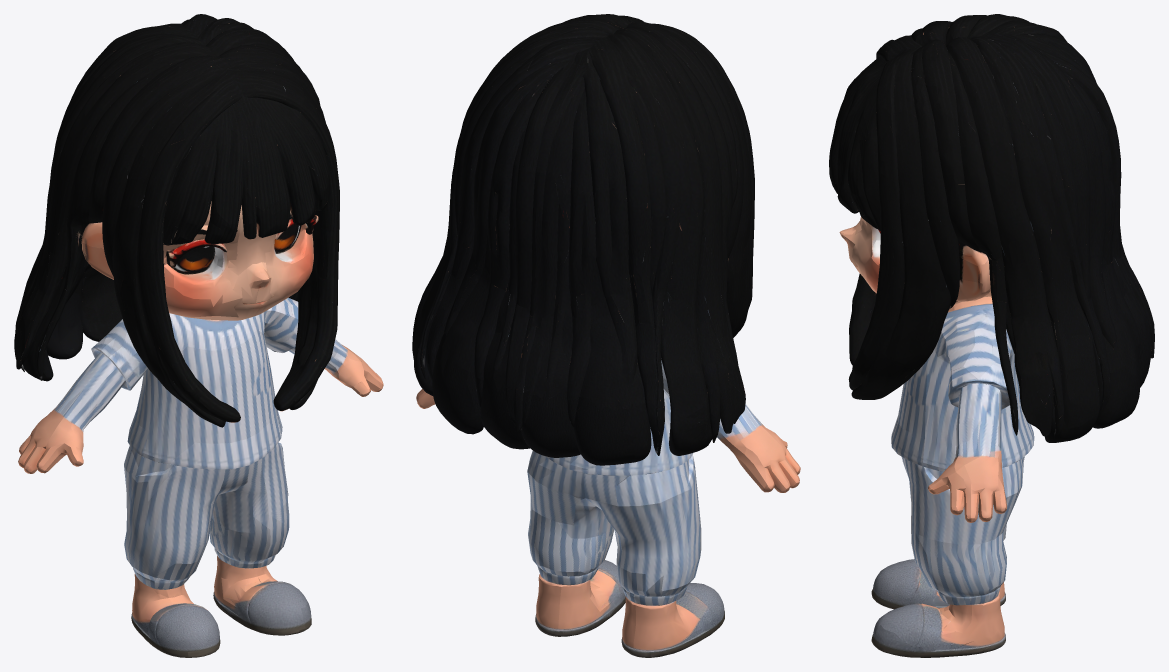
Rendered from retex_pajama_01a12009-4c89-7442-9344-bd7088d4b762.glb.
The picture shows the model from 3 angles, left to right: view 1: azimuth 30°, elevation 25°; view 2: azimuth 150°, elevation 25°; view 3: azimuth 270°, elevation 25°; orthographic projection. The views are drawn at different scales.
Bounding box in the file's own units: 1.23 × 1.9 × 0.9461.
Materials: 1 (1 with a texture image).
